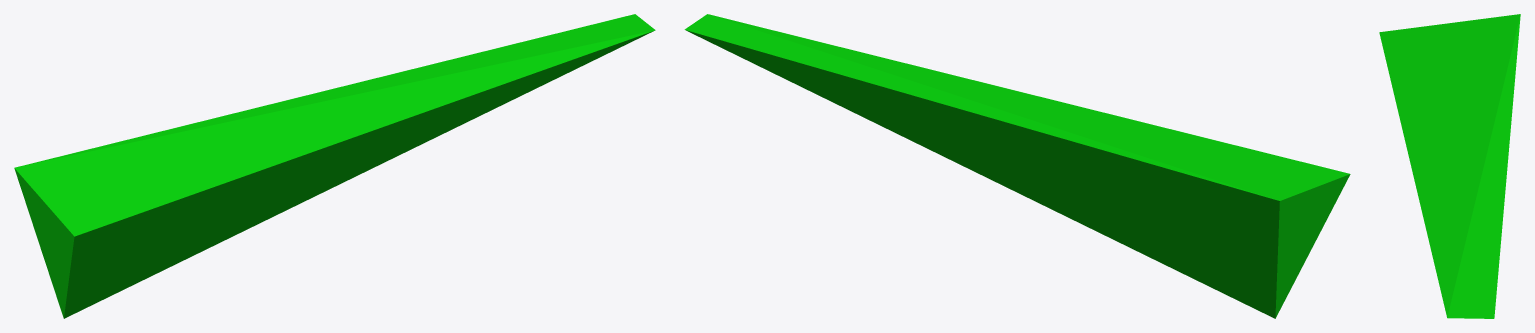
File: torso_convex_piece_046.obj
3 renders of one model, left to right at view 1: azimuth 30°, elevation 25°; view 2: azimuth 150°, elevation 25°; view 3: azimuth 270°, elevation 25°, orthographic. The views are drawn at different scales.
Bounding box in the file's own units: 0.054 × 0.0131 × 0.00998.
